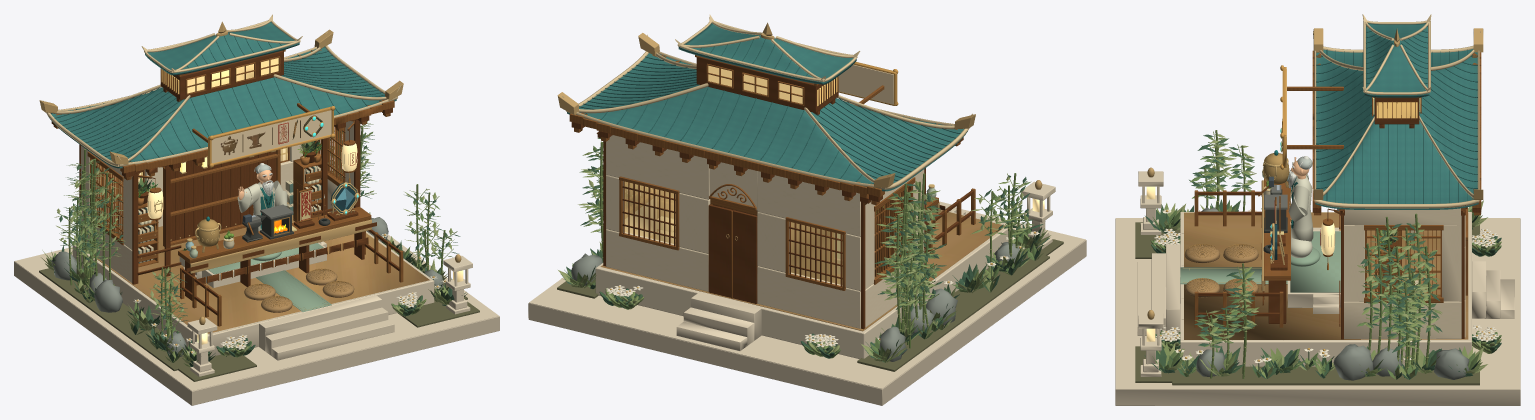
The model's file is arts-lod0-67c7fbc322b8.glb.
The picture shows the model from 3 angles, left to right: view 1: azimuth 30°, elevation 25°; view 2: azimuth 150°, elevation 25°; view 3: azimuth 270°, elevation 25°; orthographic projection. The views are drawn at different scales.
Visible parts, largest first — view 1: SM_AR6_MAT_AR6_RoofPatina.007, SM_AR6_MAT_AR6_CutStone.007, SM_AR6_MAT_AR6_WarmTimber_AR6_RearDoorHinge_1.007, SM_AR6_MAT_AR6_TimberTrim_AR6_RearDoorHinge_-1.007, SM_AR6_MAT_AR6_FloorWood.007, SM_AR6_MAT_AR6_Foundation.007, SM_AR6_MAT_AR6_RoofCreamEdge.014, SM_AR6_MAT_AR6_BambooCulm.007, SM_AR6_MAT_AR6_GardenSoil.007, SM_AR6_MAT_AR6_Plaster.007, SM_AR6_MAT_AR6_PanelFoldShadow.007, SM_AR6_MAT_AR6_AgedGold_AR6_RearDoorHinge_1.007 (+20 smaller); view 2: SM_AR6_MAT_AR6_RoofPatina.007, SM_AR6_MAT_AR6_Plaster.007, SM_AR6_MAT_AR6_CutStone.007, SM_AR6_MAT_AR6_WarmTimber_AR6_RearDoorHinge_1.007, SM_AR6_MAT_AR6_TimberTrim_AR6_RearDoorHinge_-1.007, SM_AR6_MAT_AR6_Foundation.007, SM_AR6_MAT_AR6_RoofCreamEdge.014, SM_AR6_MAT_AR6_PanelFoldShadow.007, SM_AR6_MAT_AR6_RearWarmPaperGlass.004, SM_AR6_MAT_AR6_BambooCulm.007, SM_AR6_MAT_AR6_GardenSoil.007, SM_AR6_MAT_AR6_PaperFoliage2.007 (+10 smaller); view 3: SM_AR6_MAT_AR6_RoofPatina.007, SM_AR6_MAT_AR6_CutStone.007, SM_AR6_MAT_AR6_FloorWood.007, SM_AR6_MAT_AR6_Plaster.007, SM_AR6_MAT_AR6_Foundation.007, SM_AR6_MAT_AR6_TimberTrim_AR6_RearDoorHinge_-1.007, SM_AR6_MAT_AR6_GardenSoil.007, SM_AR6_MAT_AR6_RoofCreamEdge.014, SM_AR6_MAT_AR6_BambooCulm.007, SM_AR6_MAT_AR6_WarmTimber_AR6_RearDoorHinge_1.007, SM_AR6_MAT_AR6_PaperFoliage1.007, SM_AR6_MAT_AR6_PaperFoliage3.007 (+18 smaller).
Part boxes in pixels (box(x1,y1,x2,y2)): SM_AR6_MAT_AR6_RoofPatina.007: box(48, 22, 396, 168); SM_AR6_MAT_AR6_CutStone.007: box(14, 231, 499, 391); SM_AR6_MAT_AR6_WarmTimber_AR6_RearDoorHinge_1.007: box(51, 50, 400, 315); SM_AR6_MAT_AR6_TimberTrim_AR6_RearDoorHinge_-1.007: box(53, 49, 403, 326); SM_AR6_MAT_AR6_FloorWood.007: box(84, 202, 429, 333); SM_AR6_MAT_AR6_Foundation.007: box(14, 261, 499, 405); SM_AR6_MAT_AR6_RoofCreamEdge.014: box(43, 14, 400, 211); SM_AR6_MAT_AR6_BambooCulm.007: box(57, 123, 457, 340); SM_AR6_MAT_AR6_GardenSoil.007: box(39, 239, 479, 381); SM_AR6_MAT_AR6_Plaster.007: box(81, 121, 353, 282); SM_AR6_MAT_AR6_PanelFoldShadow.007: box(50, 36, 384, 162); SM_AR6_MAT_AR6_AgedGold_AR6_RearDoorHinge_1.007: box(39, 21, 461, 324); SM_AR6_MAT_AR6_RoofPatina.007: box(567, 23, 967, 191); SM_AR6_MAT_AR6_Plaster.007: box(606, 135, 924, 328); SM_AR6_MAT_AR6_CutStone.007: box(529, 181, 1085, 388); SM_AR6_MAT_AR6_WarmTimber_AR6_RearDoorHinge_1.007: box(571, 56, 973, 329); SM_AR6_MAT_AR6_TimberTrim_AR6_RearDoorHinge_-1.007: box(569, 55, 975, 298); SM_AR6_MAT_AR6_Foundation.007: box(528, 240, 1086, 405); SM_AR6_MAT_AR6_RoofCreamEdge.014: box(562, 14, 972, 189); SM_AR6_MAT_AR6_PanelFoldShadow.007: box(579, 39, 960, 184); SM_AR6_MAT_AR6_RearWarmPaperGlass.004: box(624, 181, 842, 284); SM_AR6_MAT_AR6_BambooCulm.007: box(589, 142, 1031, 348); SM_AR6_MAT_AR6_GardenSoil.007: box(557, 229, 1063, 371); SM_AR6_MAT_AR6_PaperFoliage2.007: box(570, 147, 1047, 362); SM_AR6_MAT_AR6_RoofPatina.007: box(1315, 23, 1478, 209); SM_AR6_MAT_AR6_CutStone.007: box(1115, 171, 1520, 389); SM_AR6_MAT_AR6_FloorWood.007: box(1184, 212, 1468, 339); SM_AR6_MAT_AR6_Plaster.007: box(1344, 208, 1465, 338); SM_AR6_MAT_AR6_Foundation.007: box(1115, 219, 1520, 405); SM_AR6_MAT_AR6_TimberTrim_AR6_RearDoorHinge_-1.007: box(1194, 50, 1481, 327); SM_AR6_MAT_AR6_GardenSoil.007: box(1135, 222, 1479, 385); SM_AR6_MAT_AR6_RoofCreamEdge.014: box(1313, 14, 1480, 247); SM_AR6_MAT_AR6_BambooCulm.007: box(1200, 130, 1435, 378); SM_AR6_MAT_AR6_WarmTimber_AR6_RearDoorHinge_1.007: box(1198, 97, 1481, 339); SM_AR6_MAT_AR6_PaperFoliage1.007: box(1150, 134, 1501, 378); SM_AR6_MAT_AR6_PaperFoliage3.007: box(1144, 134, 1501, 379).
Size of the model in its own units: 10 by 7.97 by 10.
81 materials, 10 textured.
